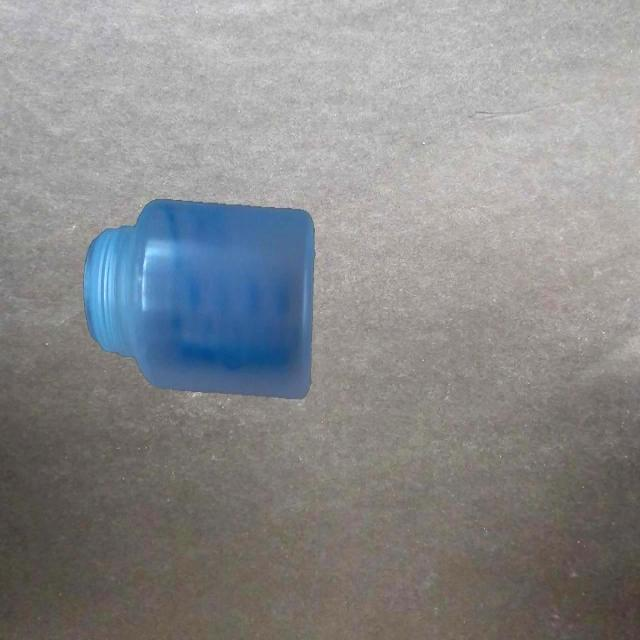bottle: (83, 194, 316, 408)
